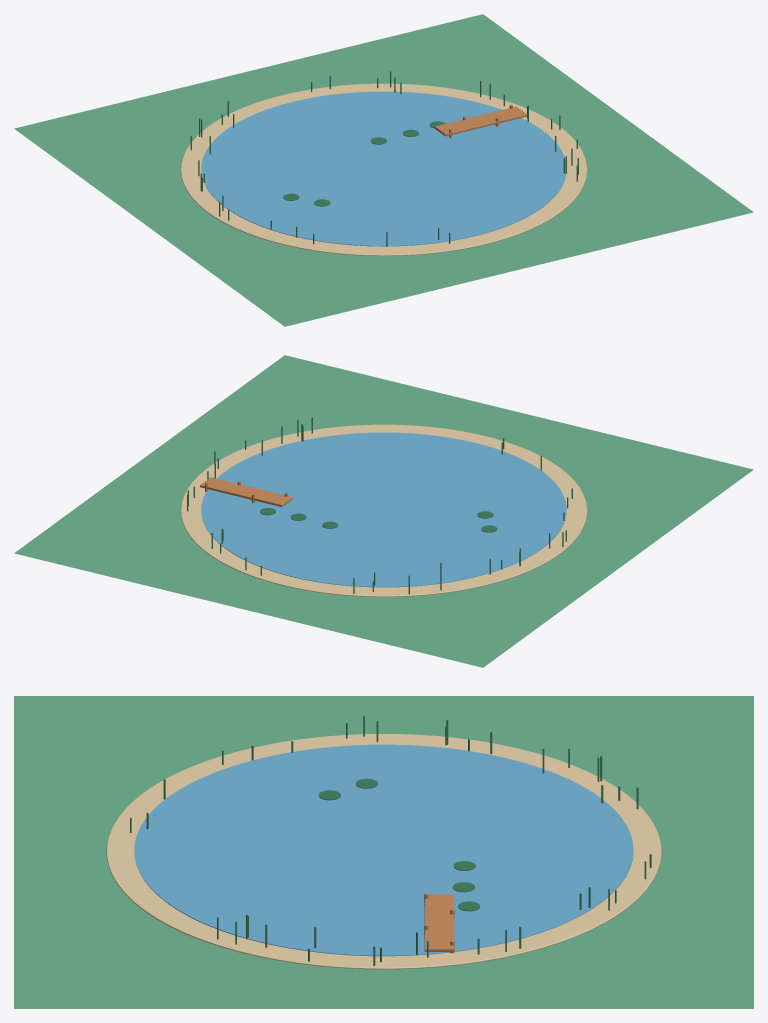
File: land_lake.glb
3 renders of one model, top to bottom at view 1: azimuth 30°, elevation 25°; view 2: azimuth 150°, elevation 25°; view 3: azimuth 270°, elevation 25°, orthographic. The views are drawn at different scales.
Visible parts, largest first — view 1: land_lake; view 2: land_lake; view 3: land_lake.
Boxes of the visible parts, <box> form: land_lake: <box>14,14,753,326</box>; land_lake: <box>14,355,753,667</box>; land_lake: <box>14,696,753,1008</box>.
Bounding box in the file's own units: 40 × 1.59 × 40.
1 material, 1 textured.
